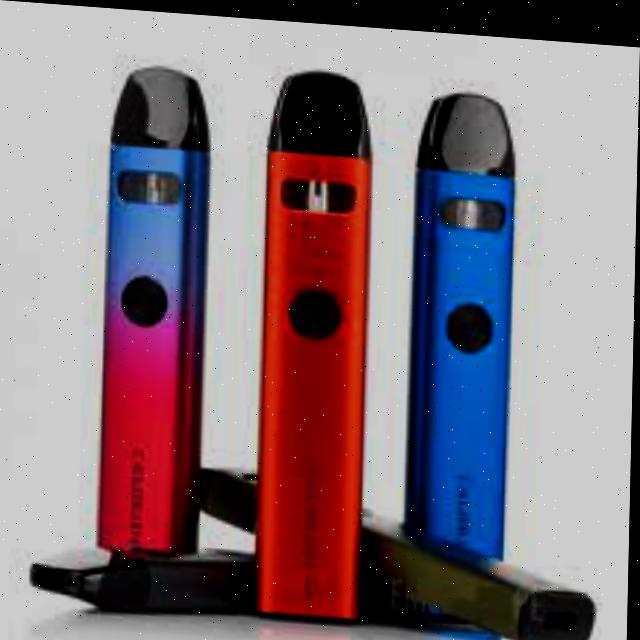vape: (205, 461, 599, 640), (256, 59, 373, 618), (103, 62, 211, 553), (409, 82, 513, 550), (34, 534, 494, 626)
